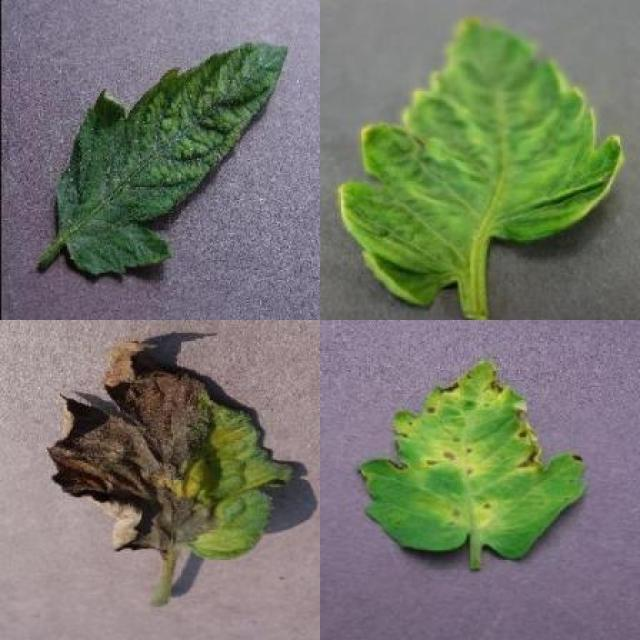Late Blight: (46, 338, 296, 565)
Mosaic Virus: (54, 41, 289, 282)
Septoria: (357, 358, 586, 562)
Yellow Leaf Curl Virus: (340, 19, 626, 308)
